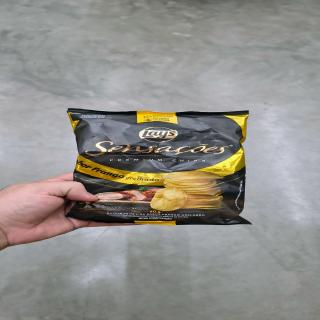food-box: (58, 104, 260, 232)
